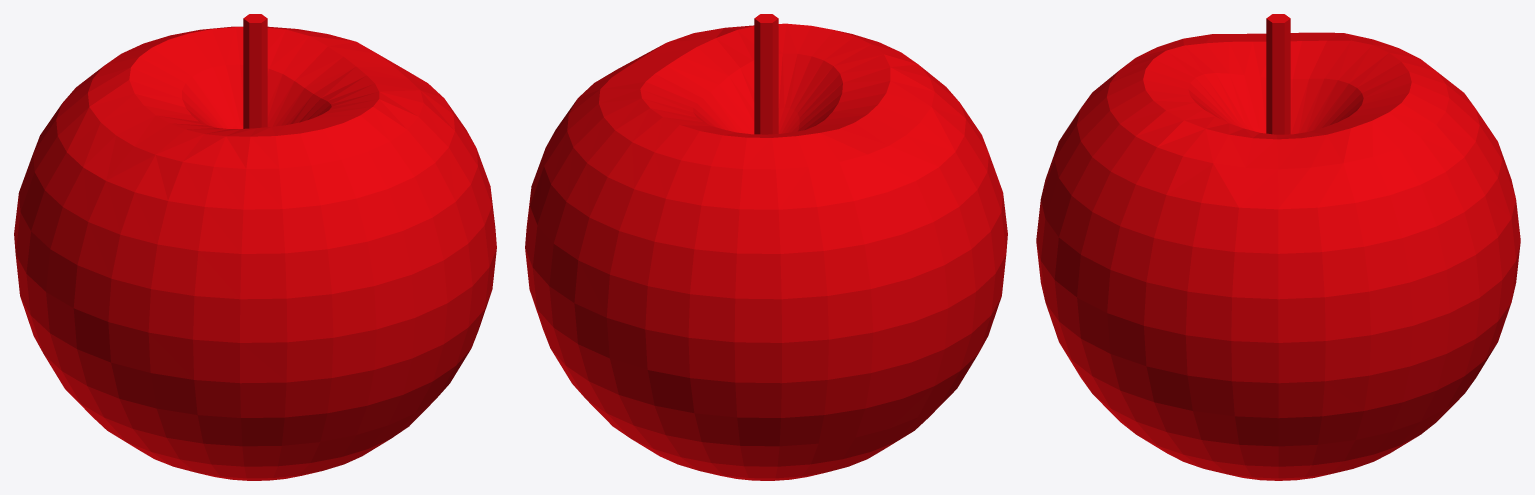
Rendered from TippeTop1.dae.
3 renders of one model, left to right at view 1: azimuth 30°, elevation 25°; view 2: azimuth 150°, elevation 25°; view 3: azimuth 270°, elevation 25°, orthographic.
Visible parts, largest first — view 1: Sphere; view 2: Sphere; view 3: Sphere.
Part boxes in pixels (x1,y1,x2,y2): Sphere: (14, 14, 496, 480); Sphere: (525, 14, 1007, 480); Sphere: (1036, 14, 1520, 480).
Bounding box in the file's own units: 2 × 2 × 2.
